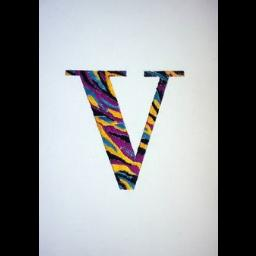v: (56, 60, 194, 198)
